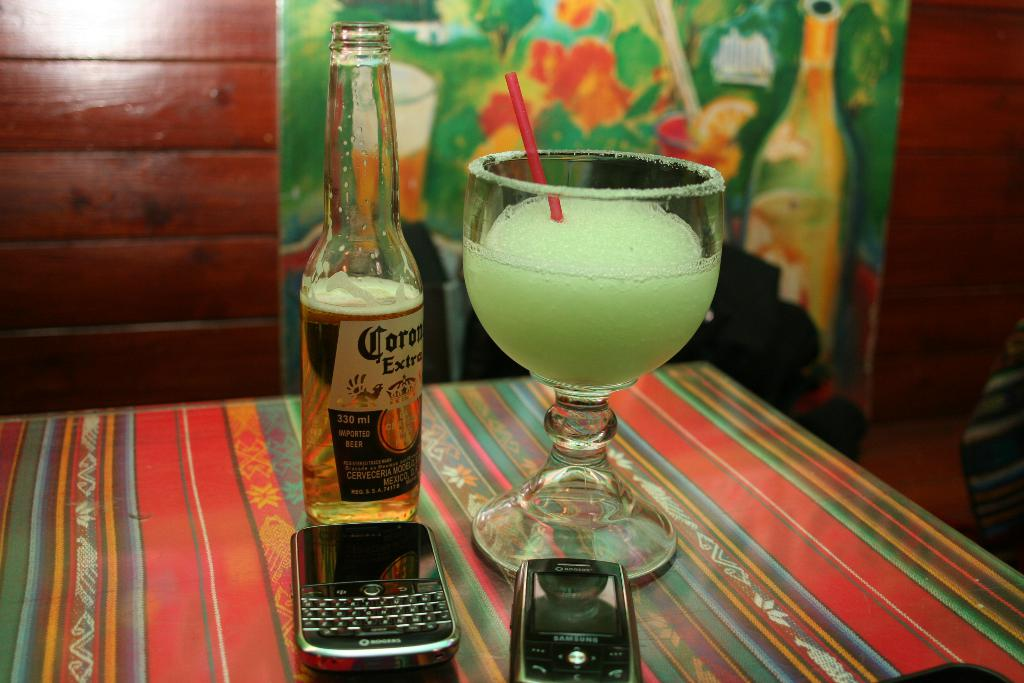mobile phone: (291, 509, 477, 664)
